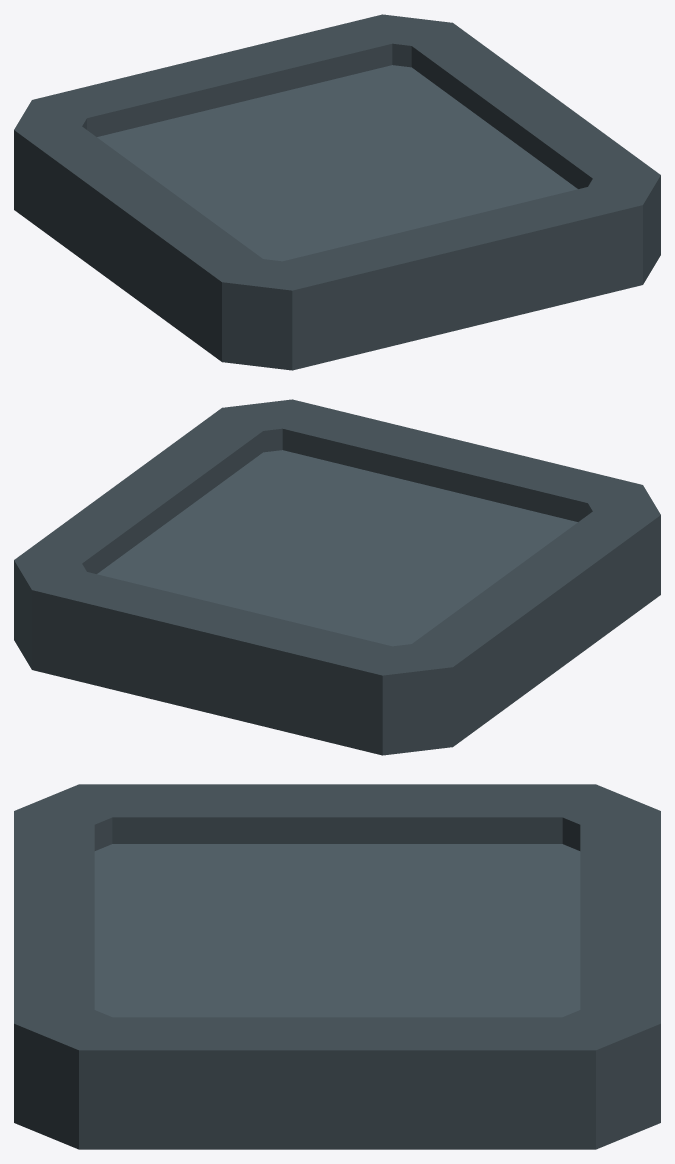
The model's file is elevator.fbx.
3 views of the same model, one above another, from view 1: azimuth 30°, elevation 25°; view 2: azimuth 150°, elevation 25°; view 3: azimuth 270°, elevation 25° (orthographic). The views are drawn at different scales.
Visible parts, largest first — view 1: elevator; view 2: elevator; view 3: elevator.
Part boxes in pixels (x1=…): elevator: x1=14, y1=14, x2=660, y2=370; elevator: x1=14, y1=399, x2=660, y2=755; elevator: x1=14, y1=784, x2=660, y2=1149.
Bounding box in the file's own units: 261 × 45.39 × 268.
